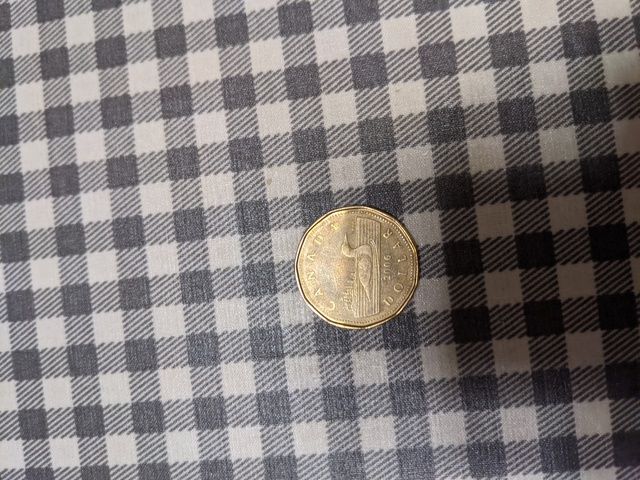loonie: (283, 203, 436, 333)
